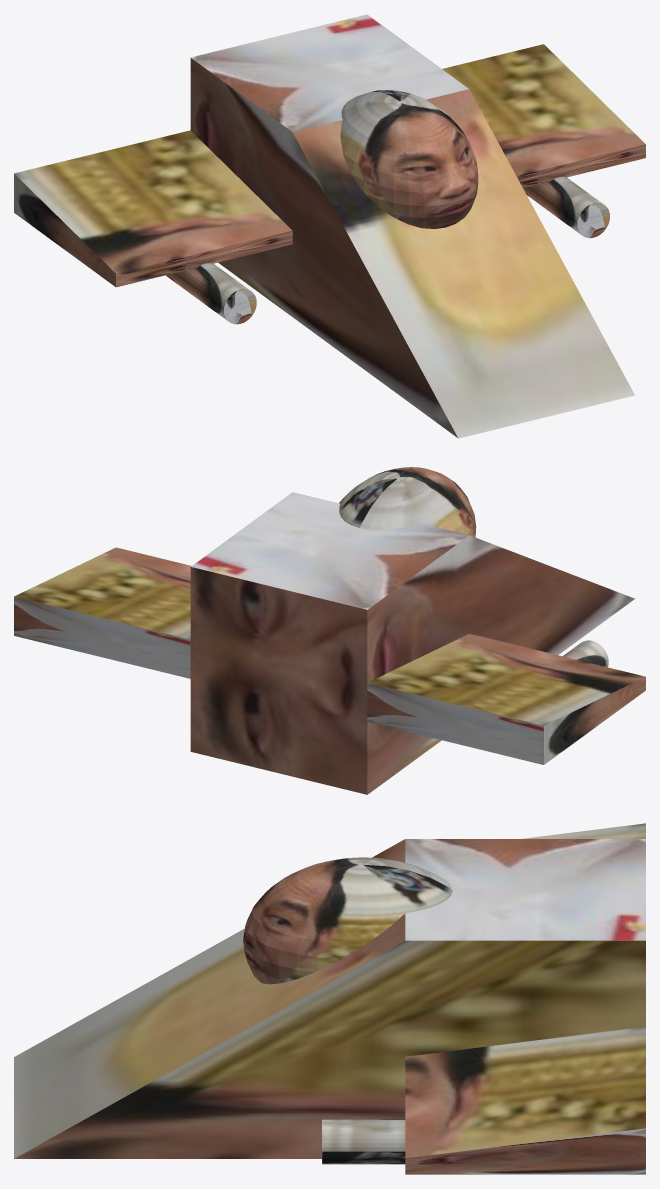
Rendered from baseplane1.glb.
3 renders of one model, top to bottom at view 1: azimuth 30°, elevation 25°; view 2: azimuth 150°, elevation 25°; view 3: azimuth 270°, elevation 25°, orthographic. The views are drawn at different scales.
Parts seen in each view (by area): view 1: Cube; view 2: Cube; view 3: Cube.
Boxes of the visible parts, bbox=[...] form: Cube: bbox=[14, 14, 645, 438]; Cube: bbox=[14, 467, 645, 794]; Cube: bbox=[14, 823, 645, 1174].
Bounding box in the file's own units: 6 × 2.24 × 5.25.
Materials: 1 (1 with a texture image).
